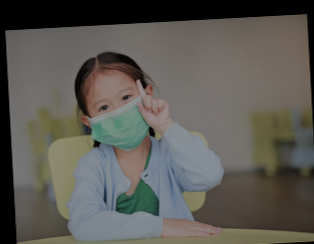with_mask: (87, 86, 146, 148)
